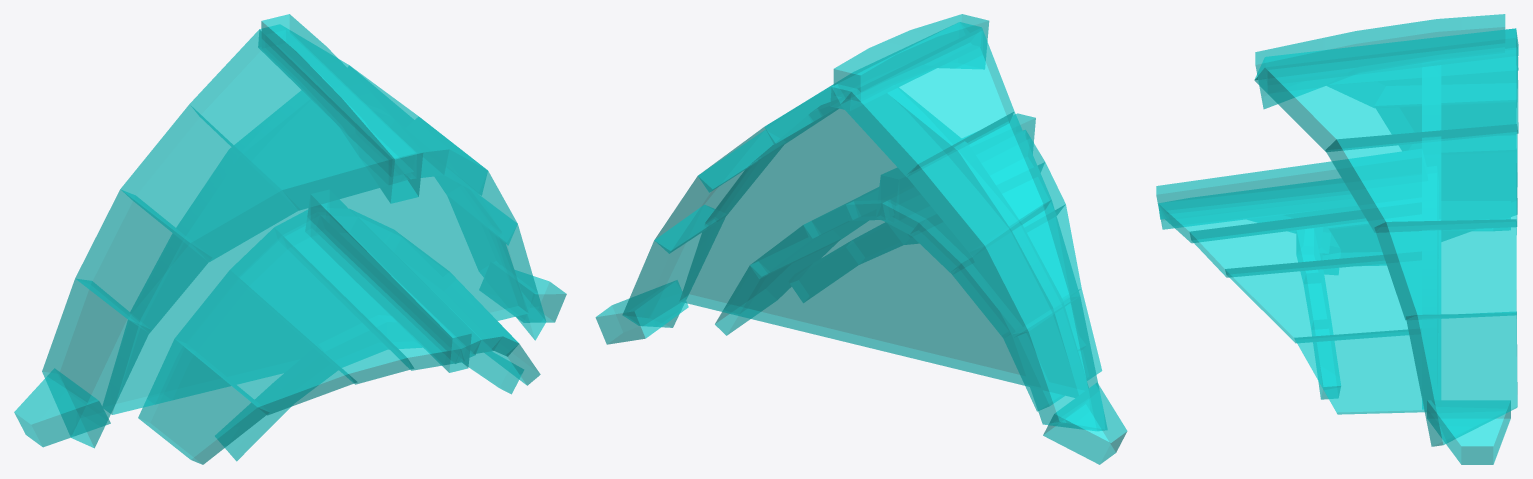
File: SM_Bld_Hall_Roof_End_01_Collision.fbx
The picture shows the model from 3 angles, left to right: view 1: azimuth 30°, elevation 25°; view 2: azimuth 150°, elevation 25°; view 3: azimuth 270°, elevation 25°; orthographic projection. The views are drawn at different scales.
Visible parts, largest first — view 1: SM_Bld_Hall_Roof_End_01_Collision; view 2: SM_Bld_Hall_Roof_End_01_Collision; view 3: SM_Bld_Hall_Roof_End_01_Collision.
Boxes of the visible parts, x1,y1,x2,y2 form: SM_Bld_Hall_Roof_End_01_Collision: (14, 14, 566, 464); SM_Bld_Hall_Roof_End_01_Collision: (595, 14, 1127, 464); SM_Bld_Hall_Roof_End_01_Collision: (1156, 14, 1518, 464).
Size of the model in its own units: 1740 by 1087 by 1091.
